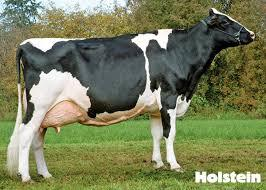cow: (8, 8, 256, 185)
